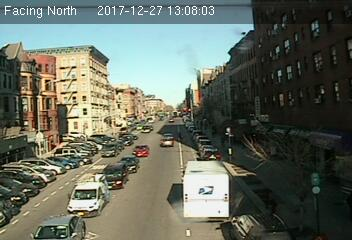car: (229, 210, 298, 240), (66, 183, 106, 216), (102, 163, 132, 190), (119, 156, 139, 172), (132, 145, 151, 158), (201, 147, 221, 159), (101, 143, 118, 156), (159, 136, 176, 146)
truck: (183, 161, 229, 224)
